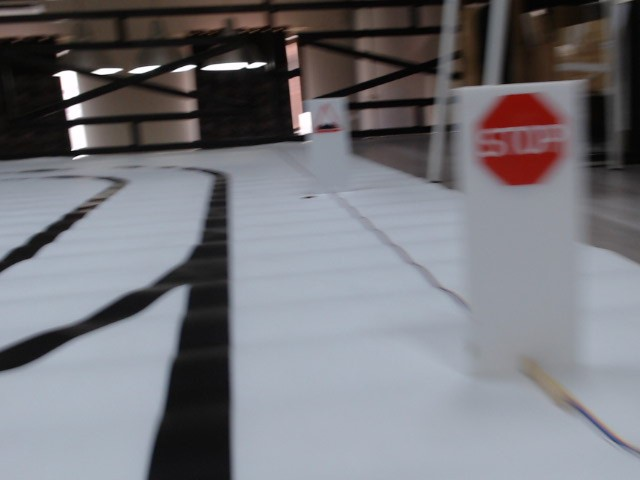Nerov: (310, 103, 342, 133)
Stop: (470, 93, 566, 189)
